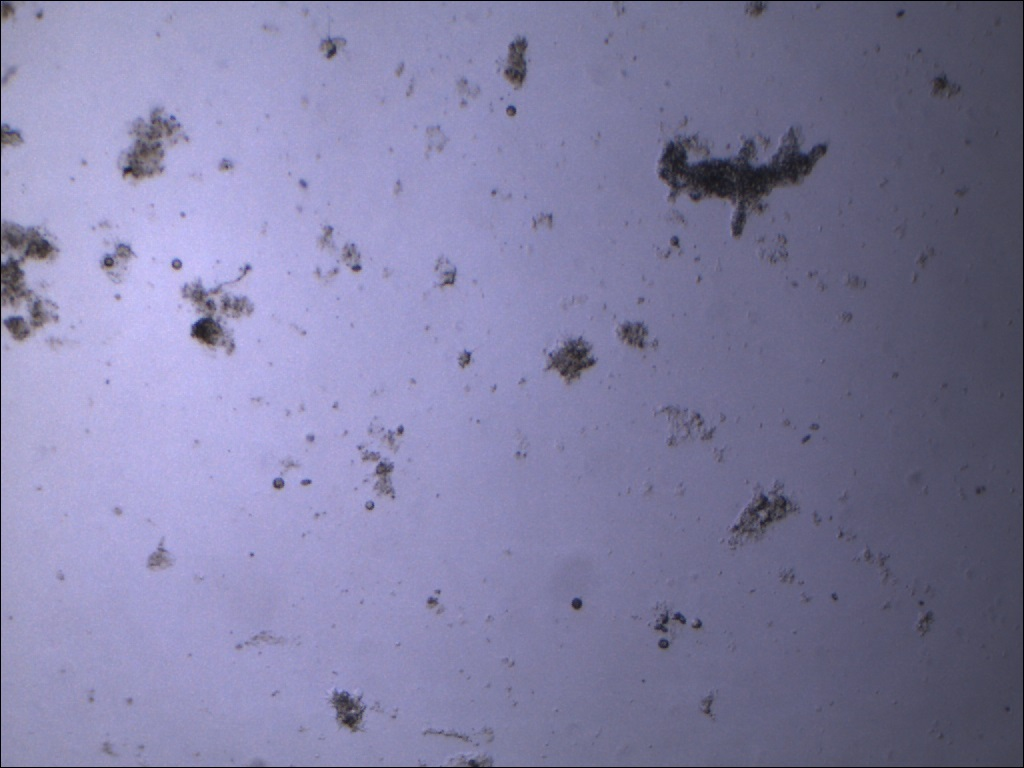amoeba: (651, 121, 836, 246)
